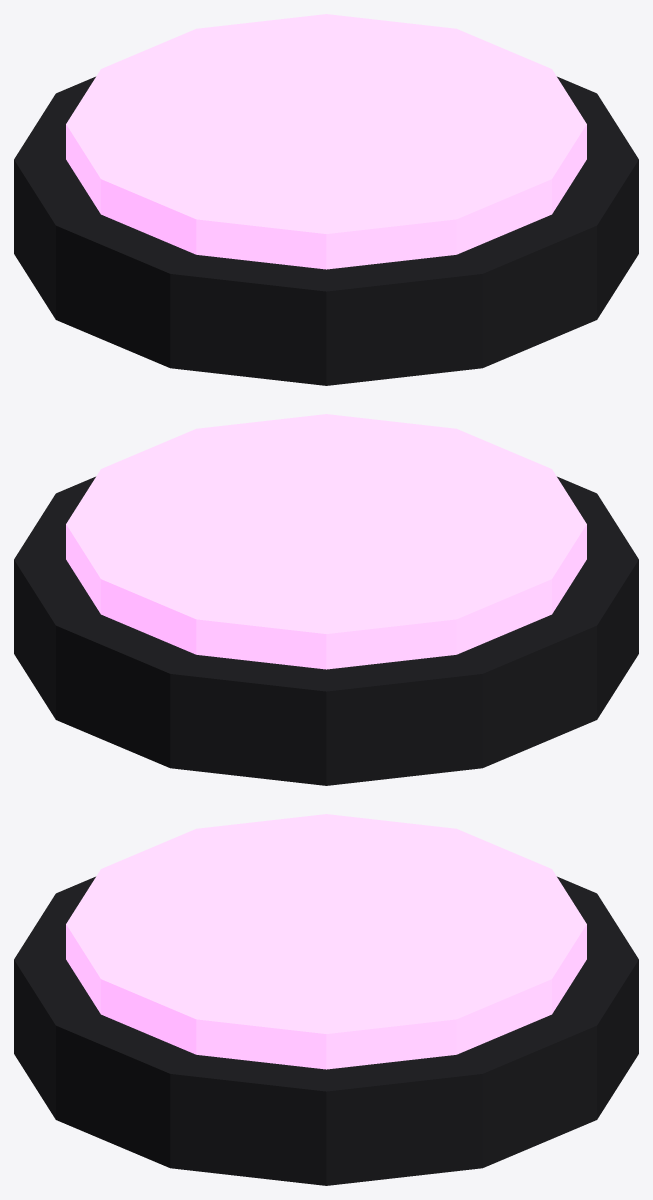
File: PRP_Coaster_NCL_v001.fbx
The picture shows the model from 3 angles, top to bottom: view 1: azimuth 30°, elevation 25°; view 2: azimuth 150°, elevation 25°; view 3: azimuth 270°, elevation 25°; orthographic projection.
Parts seen in each view (by area): view 1: PRP_Coaster_NCL_v001; view 2: PRP_Coaster_NCL_v001; view 3: PRP_Coaster_NCL_v001.
Boxes of the visible parts, left/top/right/bottom form: PRP_Coaster_NCL_v001: left=14, top=14, right=638, bottom=385; PRP_Coaster_NCL_v001: left=14, top=414, right=638, bottom=785; PRP_Coaster_NCL_v001: left=14, top=814, right=638, bottom=1185.
Size of the model in its own units: 0.12 by 0.0275 by 0.12.
